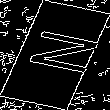N_E: (11, 28, 99, 82)
